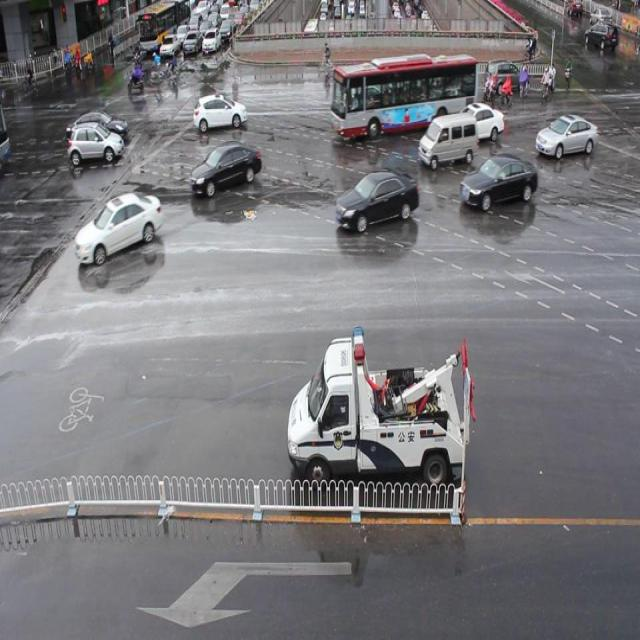bus: (286, 320, 475, 486)
car: (76, 191, 162, 264), (335, 168, 418, 230), (458, 152, 536, 208), (188, 144, 261, 193), (534, 110, 596, 156), (67, 122, 124, 165), (452, 102, 504, 142), (70, 109, 128, 141), (194, 93, 247, 127), (479, 57, 523, 95), (343, 76, 387, 111)
truck: (416, 115, 475, 168)
van: (330, 52, 476, 132)
